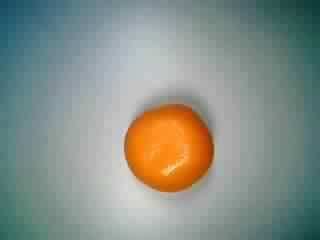orange: (117, 95, 212, 197)
